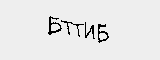Б: (45, 15, 62, 37), (94, 22, 110, 45)
И: (82, 21, 95, 41)
Т: (61, 18, 75, 36), (71, 22, 83, 37)
